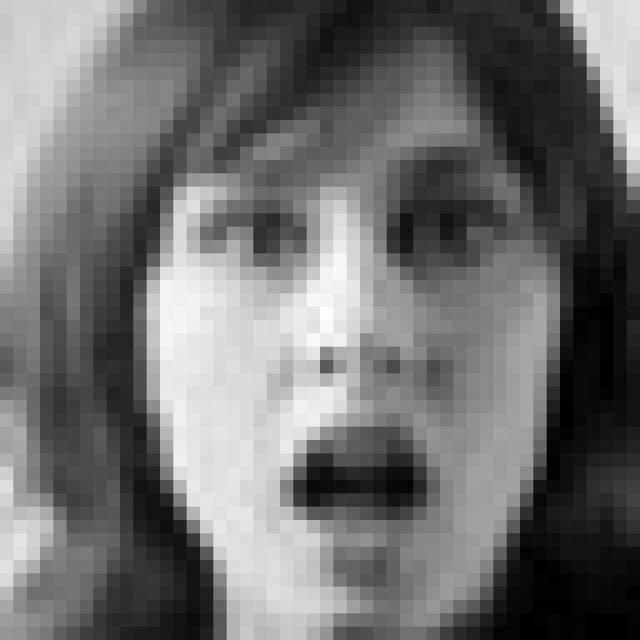surprise: (177, 137, 534, 589)
